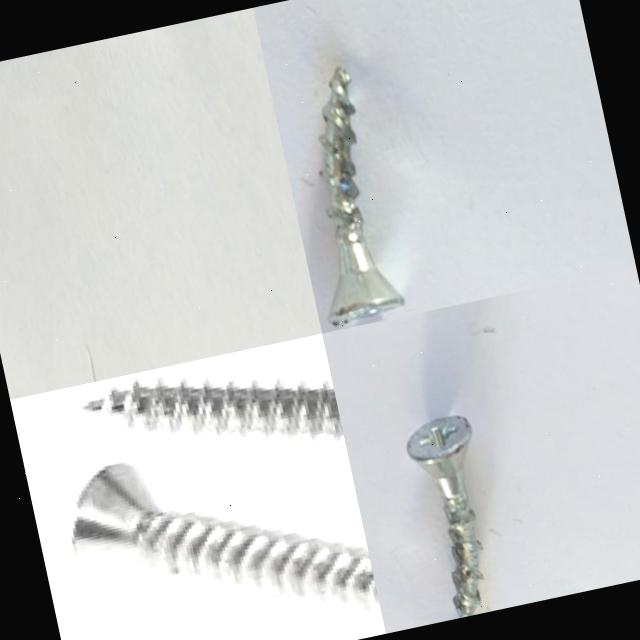Screw: (69, 461, 384, 628), (319, 66, 404, 325), (80, 381, 345, 440), (406, 414, 482, 618)
